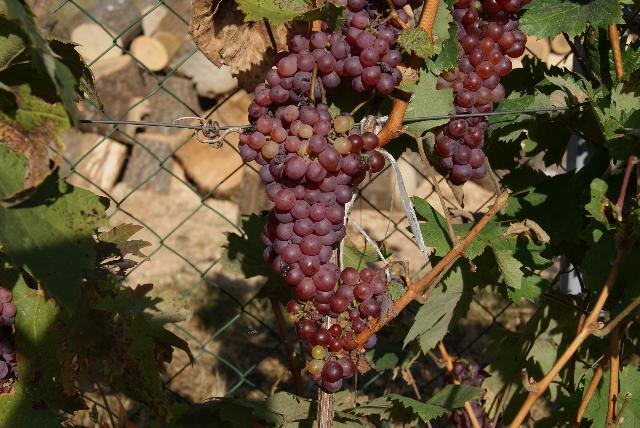grapes: (240, 85, 384, 298), (436, 0, 529, 180), (255, 2, 406, 106), (289, 262, 386, 391)
